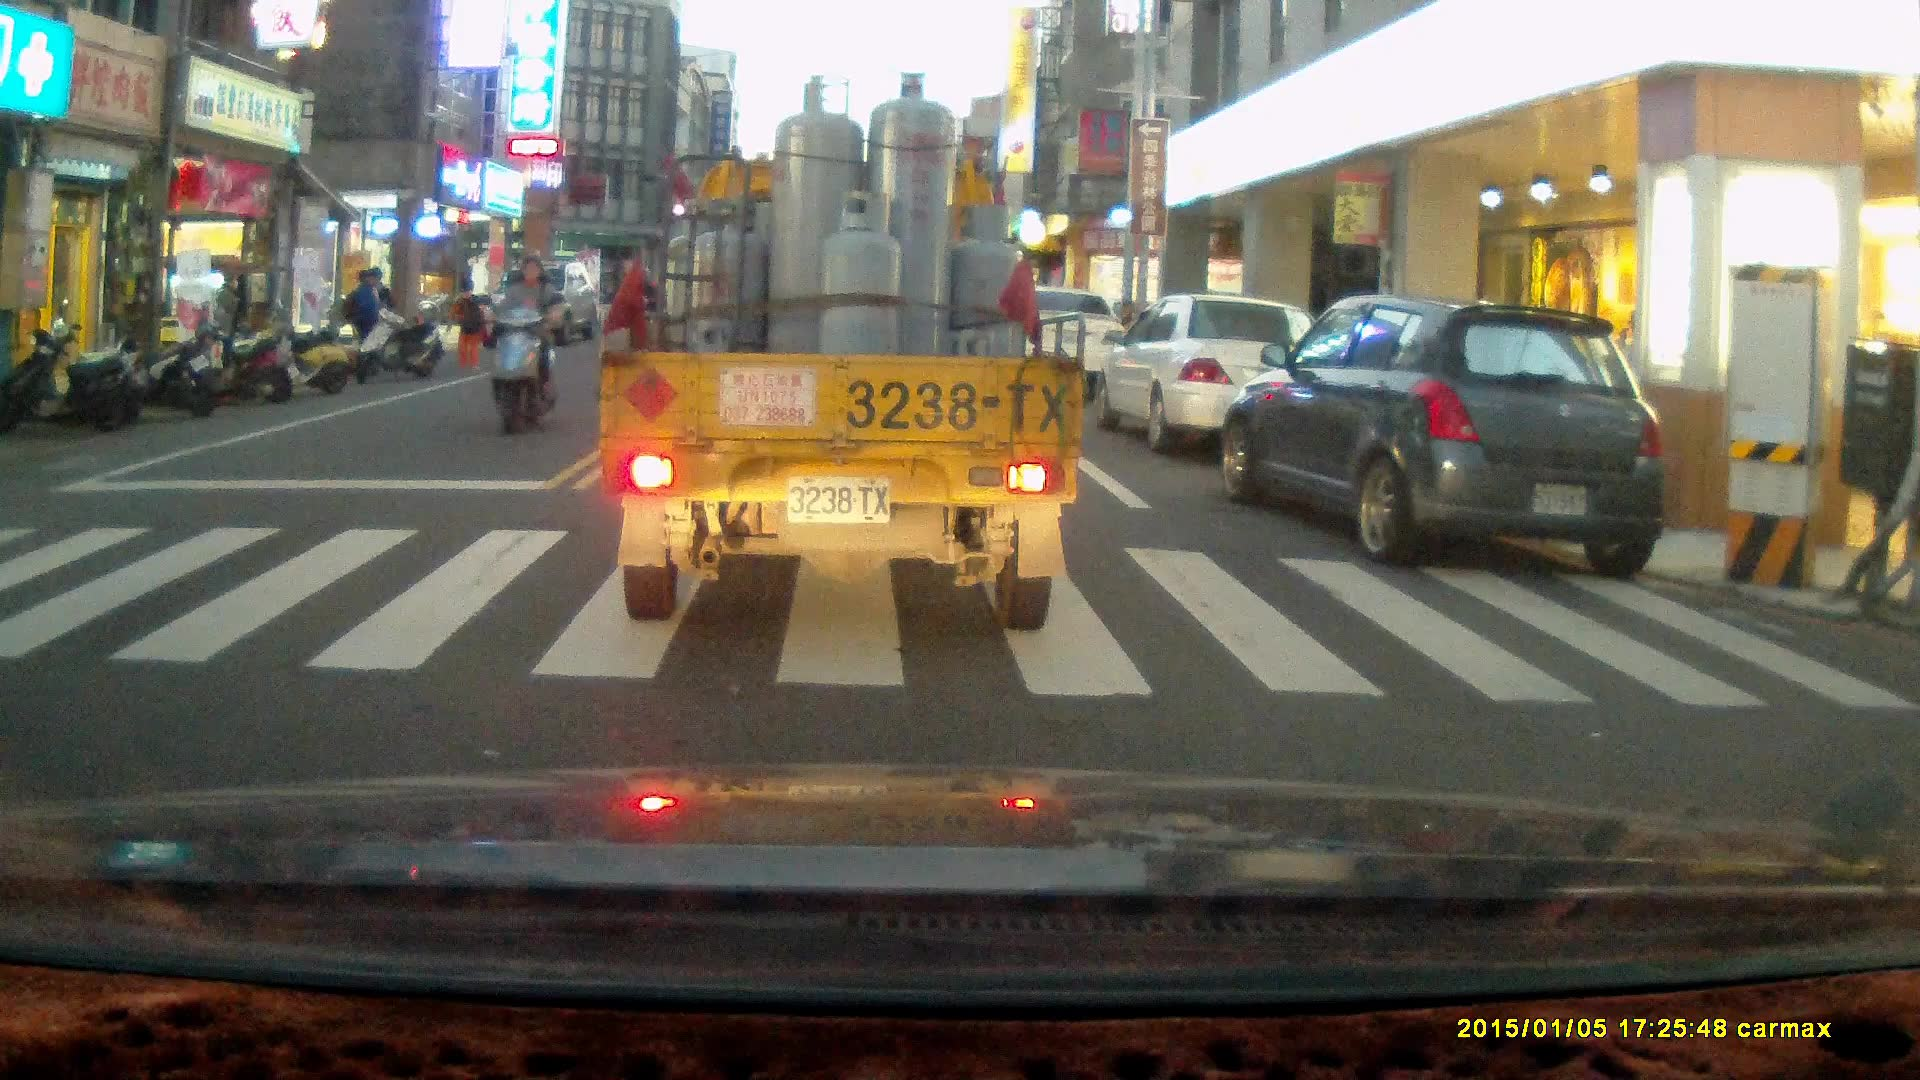pedestrian: (445, 275, 491, 371), (344, 269, 382, 378), (212, 268, 243, 369)
rider: (484, 255, 561, 436)
vehicle: (597, 70, 1090, 631), (1220, 293, 1672, 575), (1099, 303, 1320, 463), (986, 295, 1143, 424), (484, 267, 597, 357)
